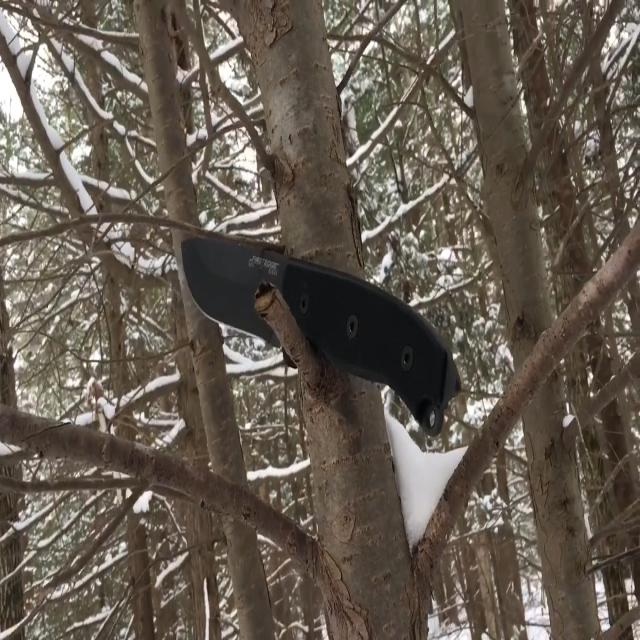knife: (179, 223, 473, 443)
